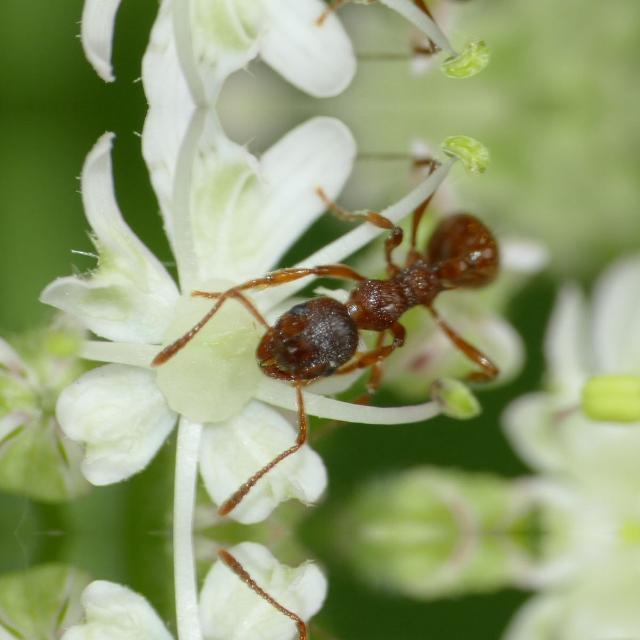Myrmica: (211, 148, 545, 444), (211, 0, 545, 64)
